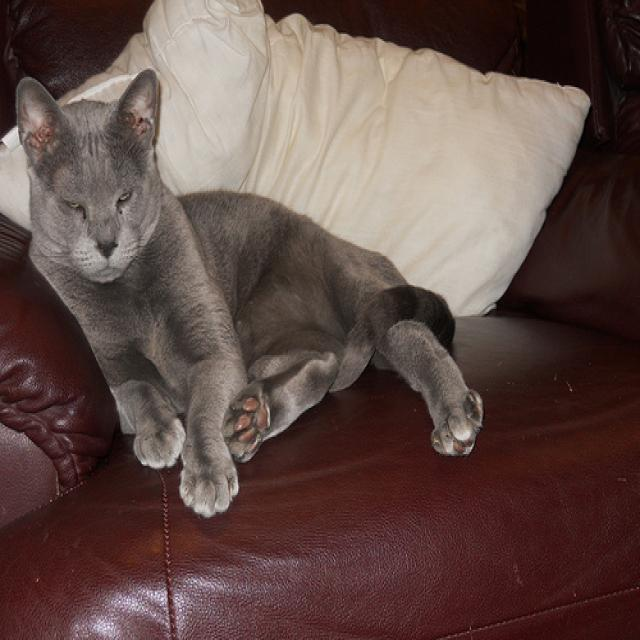Russian_Blue: (11, 63, 171, 285)
